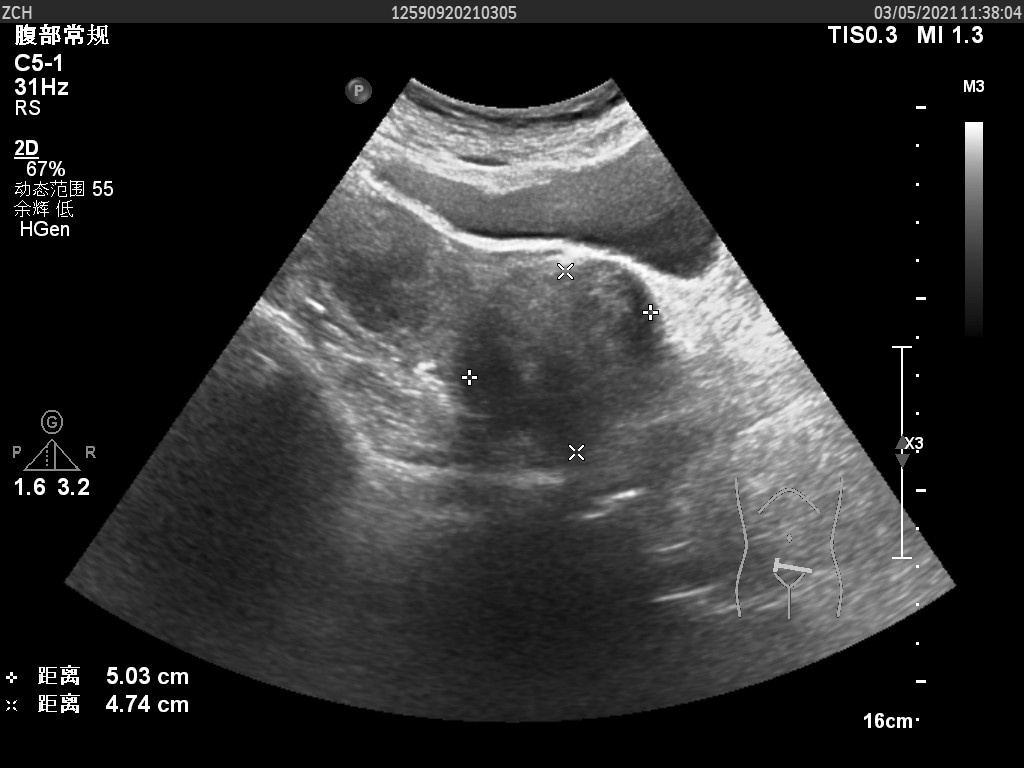肌瘤: (475, 265, 637, 435)
